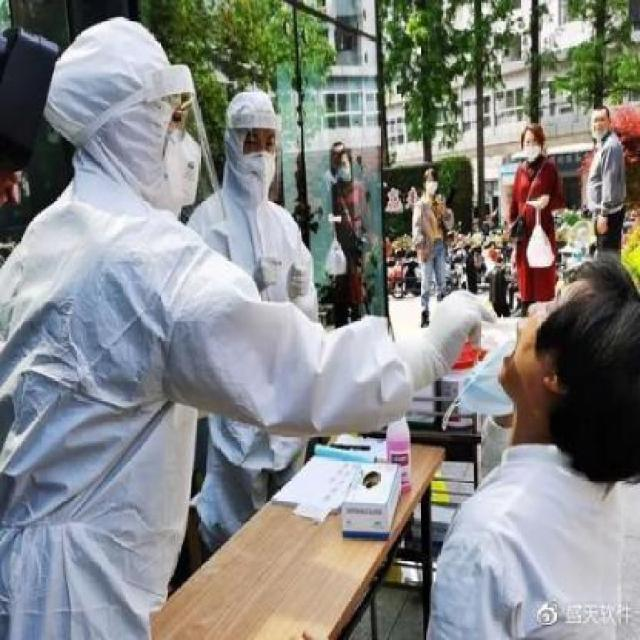face_mask: (160, 98, 203, 217), (234, 128, 281, 198), (523, 135, 546, 163), (589, 111, 611, 138), (332, 157, 356, 180), (423, 175, 439, 192)
hand_glove: (424, 286, 494, 360), (254, 251, 280, 289), (288, 254, 309, 298)
hand_noglove: (596, 214, 610, 237), (414, 245, 428, 268), (535, 192, 548, 210), (436, 198, 446, 214)
head_nohelmet: (526, 260, 640, 491), (519, 122, 546, 138), (332, 146, 358, 162), (584, 104, 616, 116), (423, 168, 440, 183)
person: (3, 18, 262, 640), (210, 88, 342, 470), (483, 111, 582, 283), (561, 100, 640, 283), (403, 160, 469, 305)
